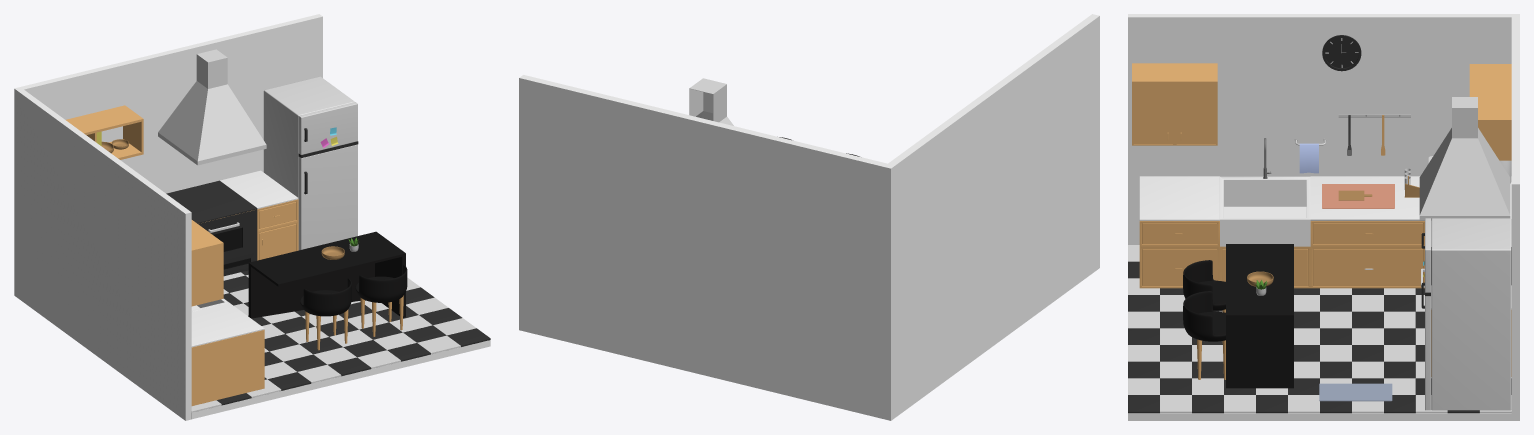
The picture shows the model from 3 angles, left to right: view 1: azimuth 30°, elevation 25°; view 2: azimuth 150°, elevation 25°; view 3: azimuth 270°, elevation 25°; orthographic projection. The views are drawn at different scales.
Parts seen in each view (by area): view 1: wall_149, Cube.004_85, Cube.009_90, Cube.008_89, Cube.020_101, Cube.001_82, Cube.002_83, Cube.007_88, Cube.023_104, floor_127, Cube.006_87, Circle_66 (+10 smaller); view 2: wall_149, Cube.020_101; view 3: wall_149, Cube.001_82, Cube.004_85, Cube.008_89, Cube.020_101, Cube.007_88, Cube.002_83, Cube.005_86, Cube.006_87, floor_127, Circle.004_70, floor.126_130 (+51 smaller).
Boxes of the visible parts, left/top/right/bottom form: wall_149: left=14, top=14, right=322, bottom=420; Cube.004_85: left=191, top=199, right=298, bottom=405; Cube.009_90: left=298, top=102, right=357, bottom=250; Cube.008_89: left=248, top=231, right=405, bottom=318; Cube.020_101: left=158, top=49, right=266, bottom=165; Cube.001_82: left=263, top=76, right=354, bottom=198; Cube.002_83: left=191, top=170, right=298, bottom=347; Cube.007_88: left=191, top=220, right=223, bottom=306; Cube.023_104: left=166, top=180, right=257, bottom=223; floor_127: left=191, top=340, right=490, bottom=419; Cube.006_87: left=66, top=105, right=143, bottom=159; Circle_66: left=300, top=278, right=351, bottom=316; wall_149: left=519, top=14, right=1099, bottom=420; Cube.020_101: left=689, top=78, right=733, bottom=125; wall_149: left=1128, top=14, right=1519, bottom=420; Cube.001_82: left=1431, top=218, right=1511, bottom=410; Cube.004_85: left=1139, top=221, right=1511, bottom=376; Cube.008_89: left=1226, top=244, right=1293, bottom=388; Cube.020_101: left=1419, top=97, right=1510, bottom=220; Cube.007_88: left=1132, top=63, right=1217, bottom=145; Cube.002_83: left=1139, top=176, right=1511, bottom=309; Cube.005_86: left=1220, top=176, right=1310, bottom=246; Cube.006_87: left=1469, top=64, right=1511, bottom=160; floor_127: left=1128, top=413, right=1511, bottom=420; Circle.004_70: left=1183, top=291, right=1225, bottom=341; floor.126_130: left=1322, top=184, right=1394, bottom=208.
Size of what is drawn, in the model's own units: 4.11 by 2.76 by 4.
